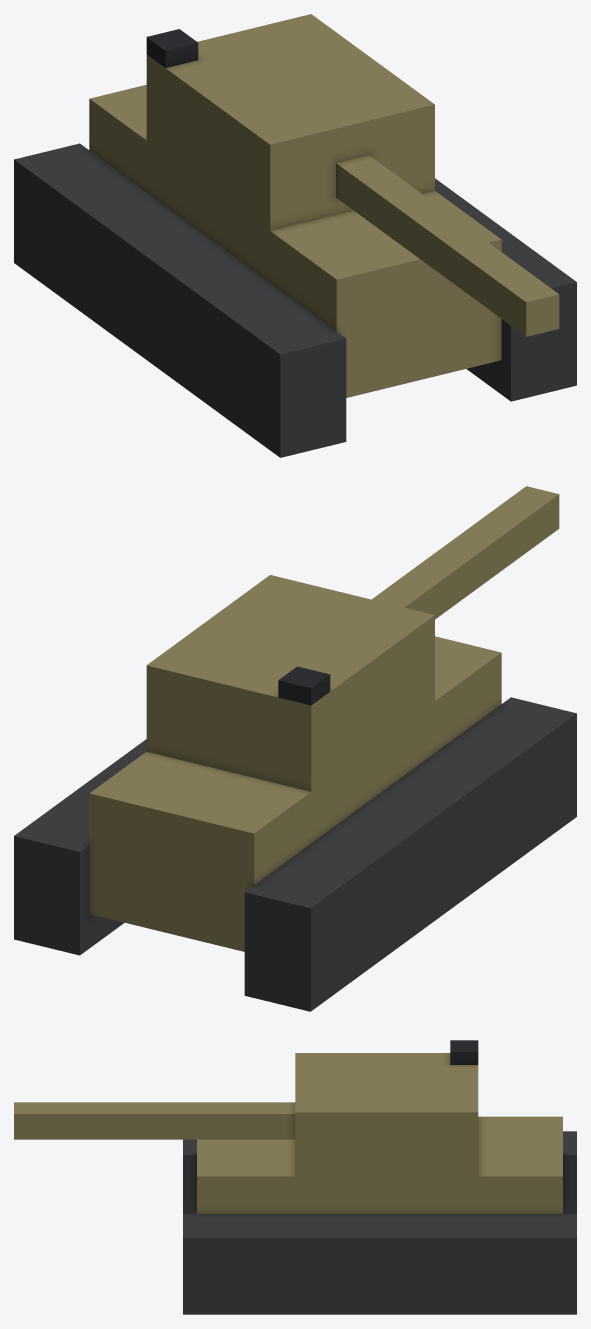
Rendered from u_armor.glb.
3 renders of one model, top to bottom at view 1: azimuth 30°, elevation 25°; view 2: azimuth 150°, elevation 25°; view 3: azimuth 270°, elevation 25°, orthographic. The views are drawn at different scales.
Visible parts, largest first — view 1: u_armor_body; view 2: u_armor_body; view 3: u_armor_body.
Part boxes in pixels (box(x1,y1,x2,y2)): u_armor_body: box(14, 14, 576, 457); u_armor_body: box(14, 486, 576, 1011); u_armor_body: box(14, 1040, 576, 1314).
Size of the model in its own units: 1.12 by 0.9375 by 2.5.
1 material, 1 textured.
